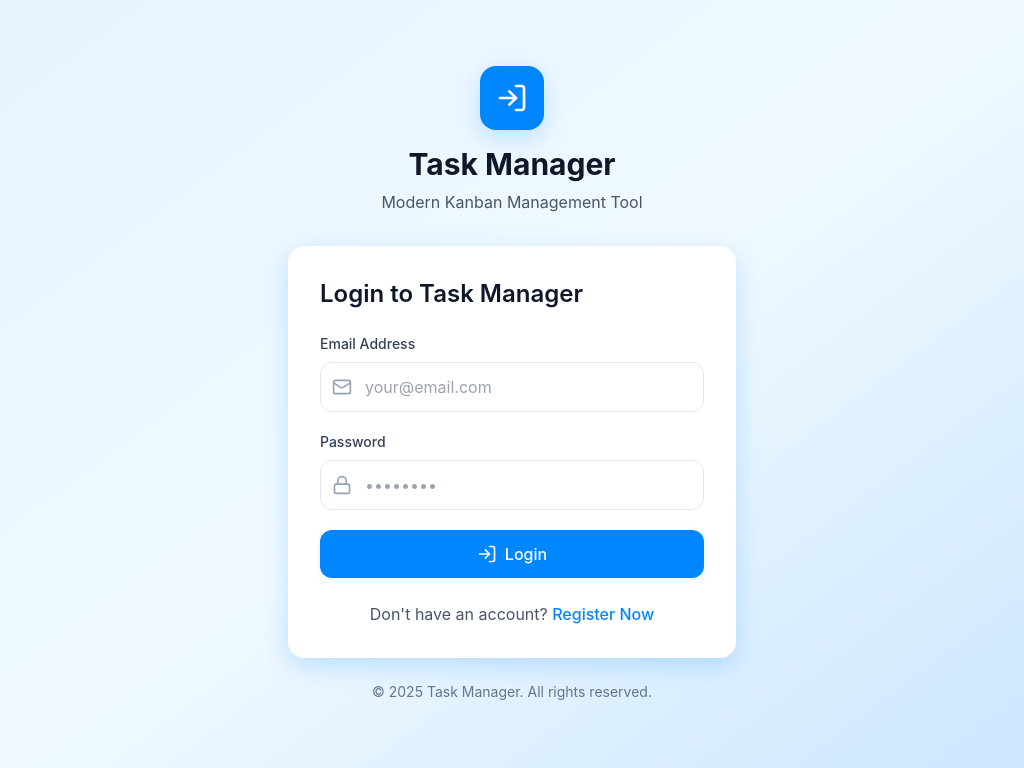
Test case: LoginPage › should show error when submitting empty form
The width and height of the screenshot is (1024, 768).
Step 1. Click the button "Login" → (512, 554), box [320,530,704,578]
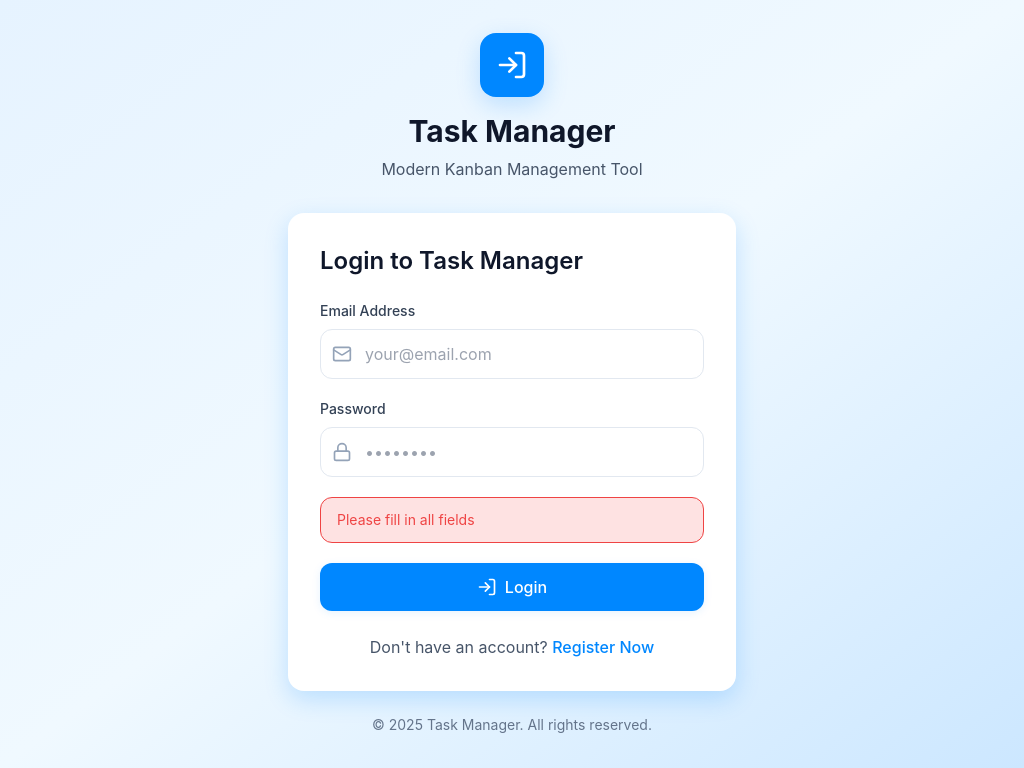
Check: the text "Please fill in all fields" is shown, box [320,497,704,543]
